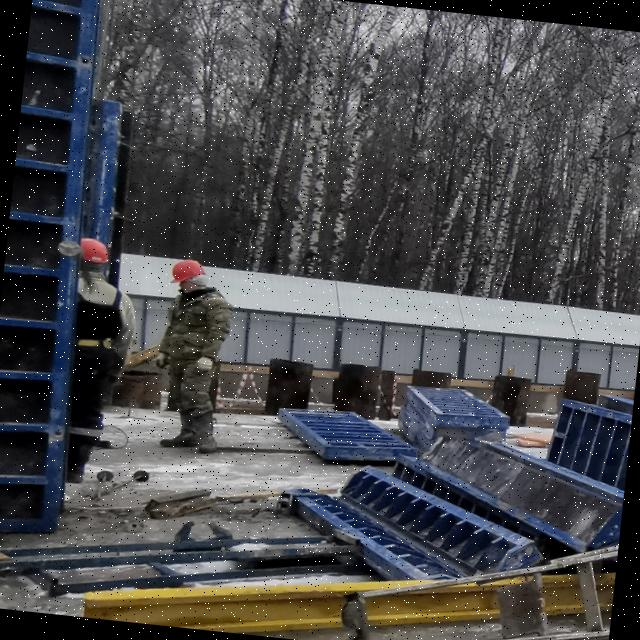Helmet: (168, 258, 211, 297), (78, 236, 113, 276)
